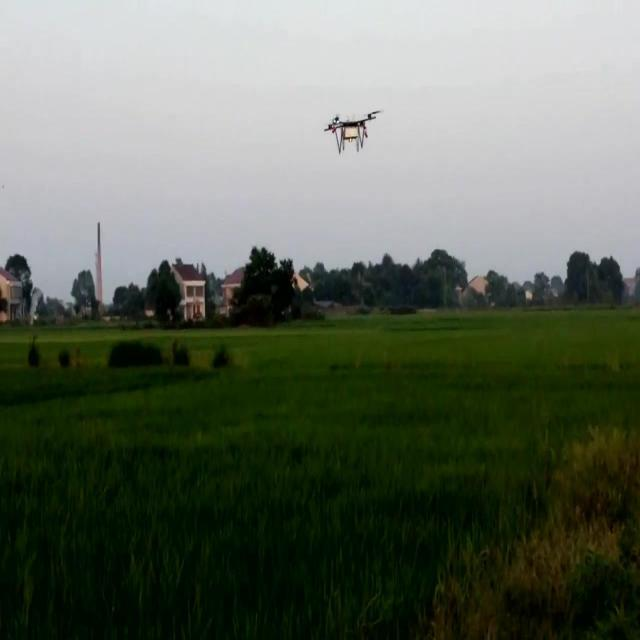UAV: (324, 110, 382, 155)
